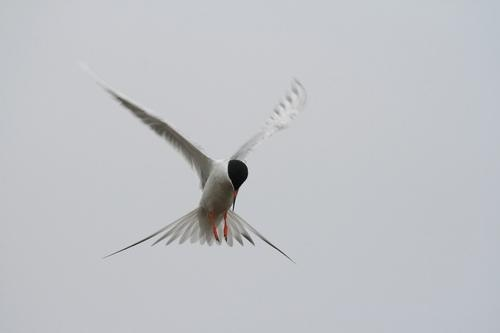bird: (76, 55, 310, 268)
